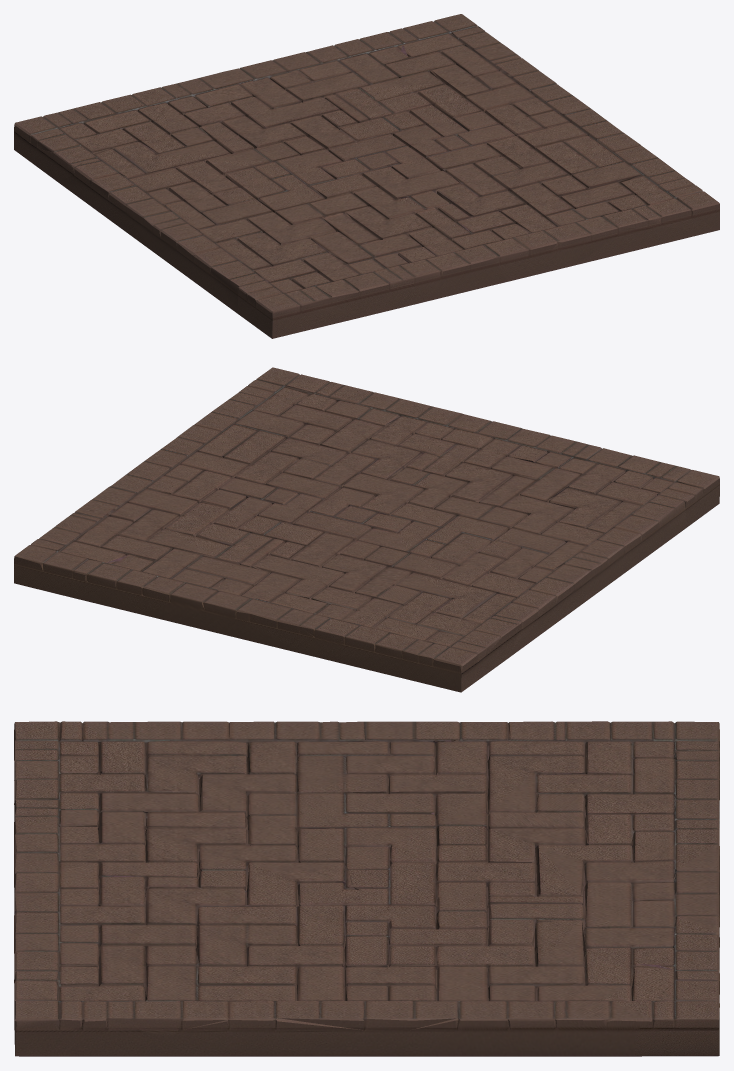
File: pavement.glb
3 renders of one model, top to bottom at view 1: azimuth 30°, elevation 25°; view 2: azimuth 150°, elevation 25°; view 3: azimuth 270°, elevation 25°, orthographic. The views are drawn at different scales.
Visible parts, largest first — view 1: output_unwrapped; view 2: output_unwrapped; view 3: output_unwrapped.
Part boxes in pixels (left/top/right/bottom): output_unwrapped: left=14, top=14, right=719, bottom=338; output_unwrapped: left=14, top=367, right=719, bottom=692; output_unwrapped: left=14, top=721, right=719, bottom=1056.
Bounding box in the file's own units: 2 × 0.1186 × 2.
1 material, 1 textured.
